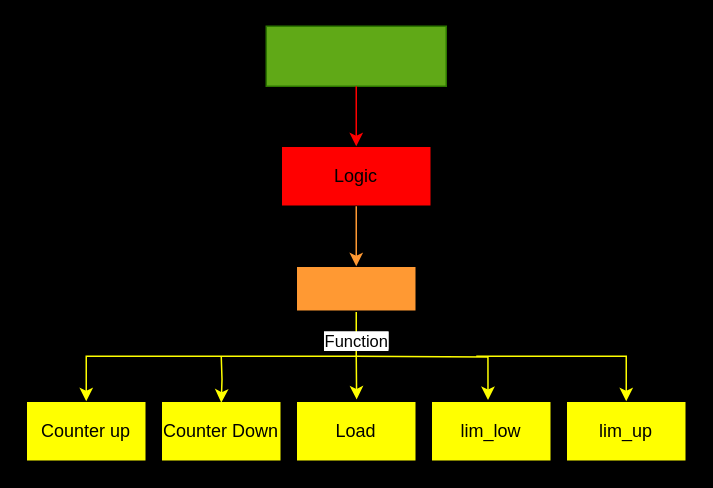
Some shapes in this 713 by 488 pixel diagram are drawn without their labels. Here are the shapes that lost their labels. From the top down, the box of each, then its label:
(265, 25, 446, 86): VHDL Counter 1/2
(295, 265, 416, 311): Counter
